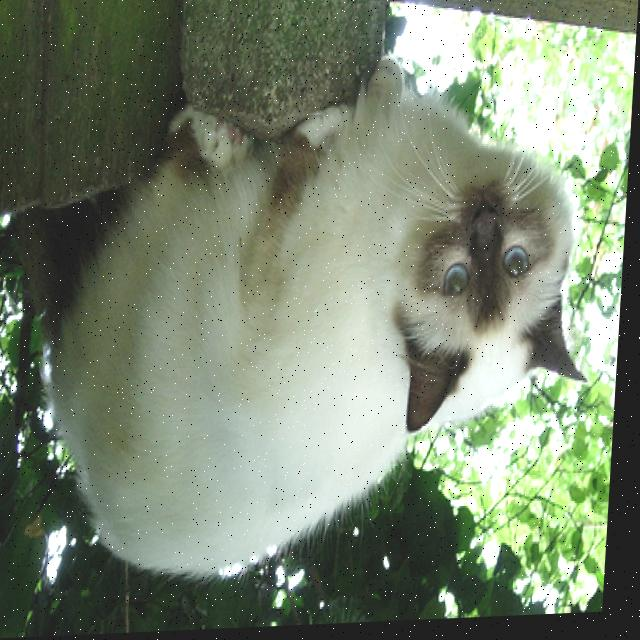Birman: (0, 53, 610, 598)
